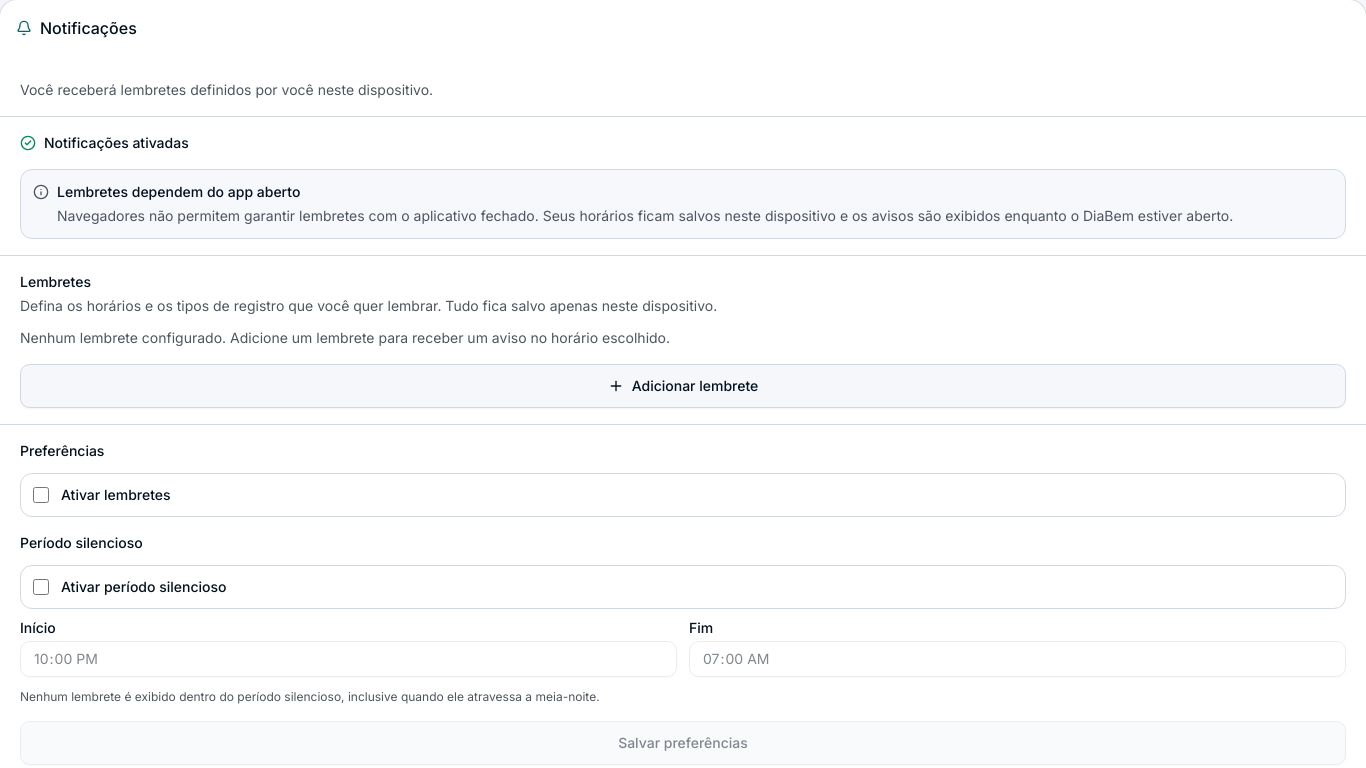
Test: NotificationSettingsCard › treats the silent window as part of the draft
This screenshot has width=1366, height=768.
Expected: the button "Salvar preferências" is disabled, 20,721 -> 1346,765
Click the checkbox labelled "Ativar período silencioso" at [41, 587], box 33,579 -> 49,595
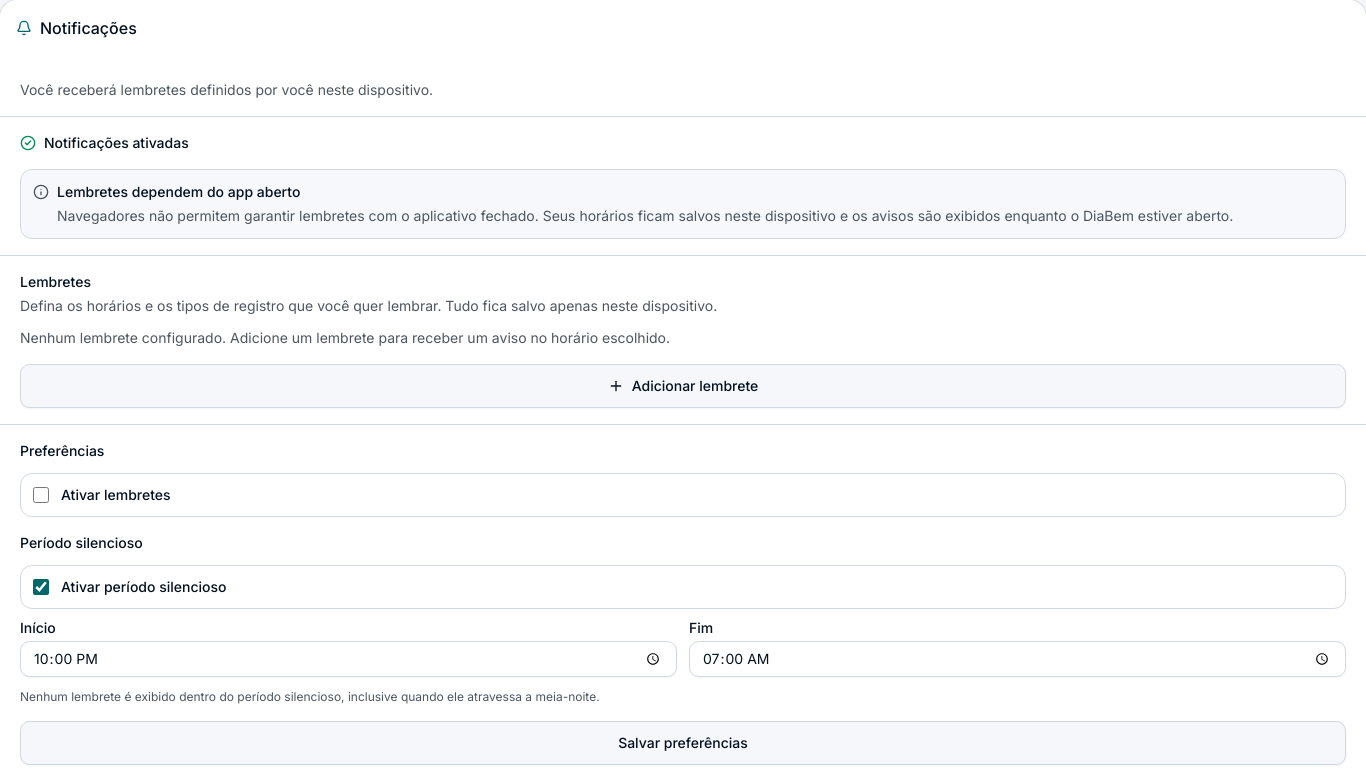
Expected: the button "Salvar preferências" is enabled, 20,721 -> 1346,765
